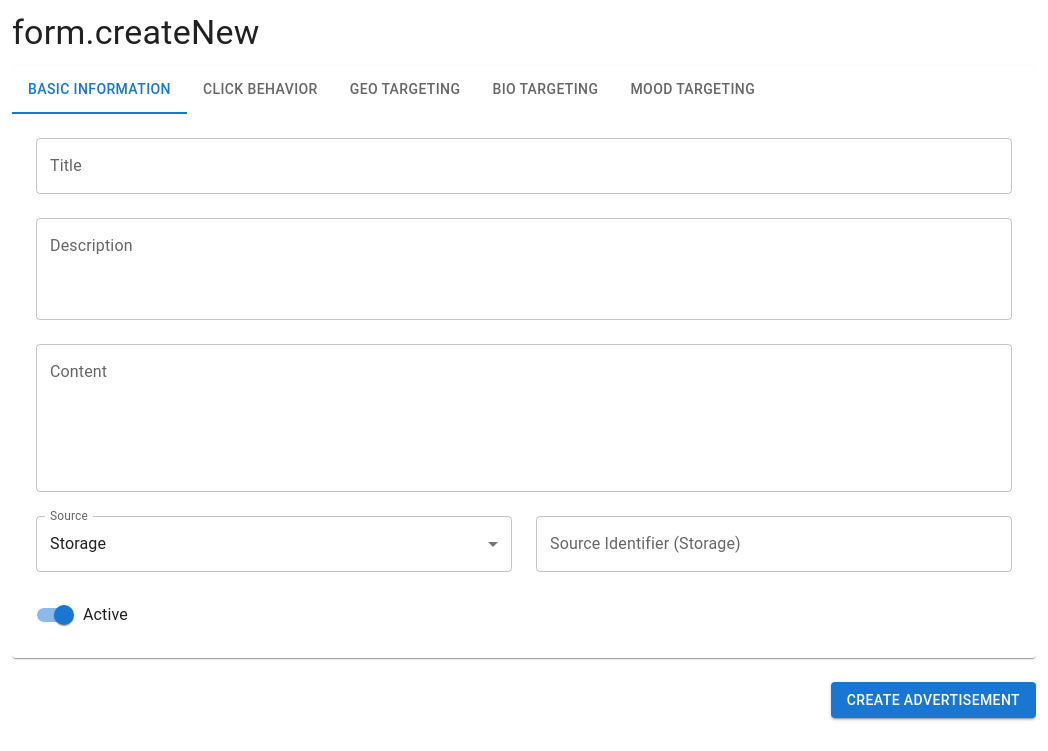
Test: AdvertisementForm › shows validation errors on submit with empty required fields
Click the button "Create Advertisement".
click(933, 700)  # box [831,682,1036,718]
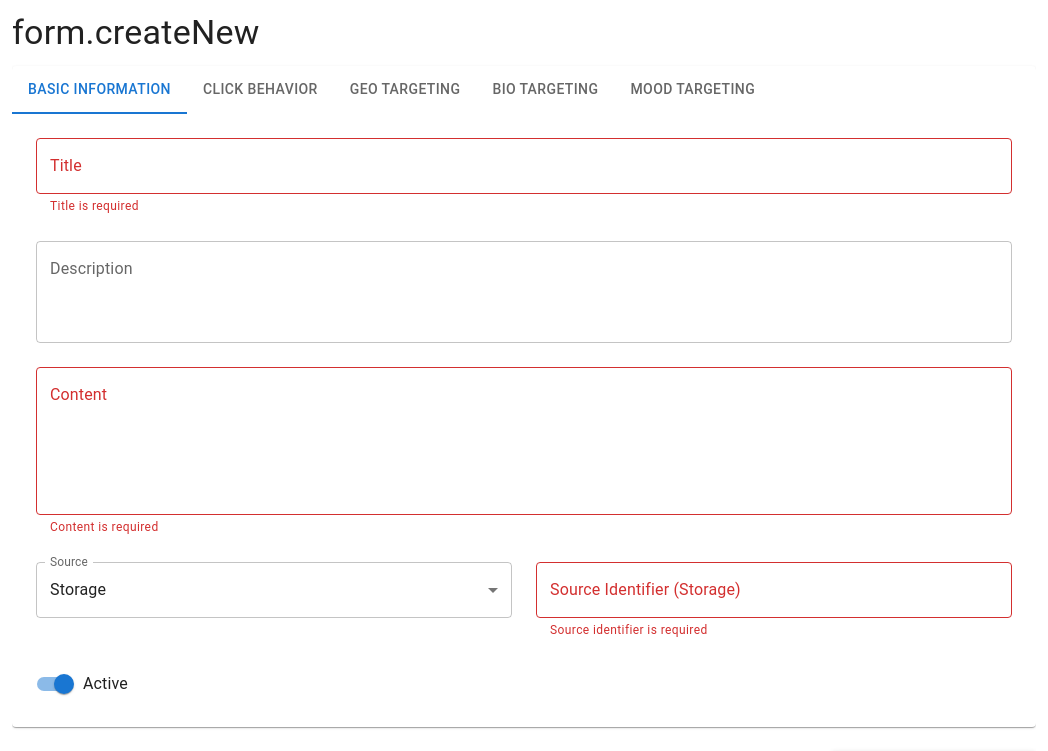
Expected: the text "Title is required" is shown 3 times, [50,199,139,213]; [50,520,158,534]; [550,623,708,637]
